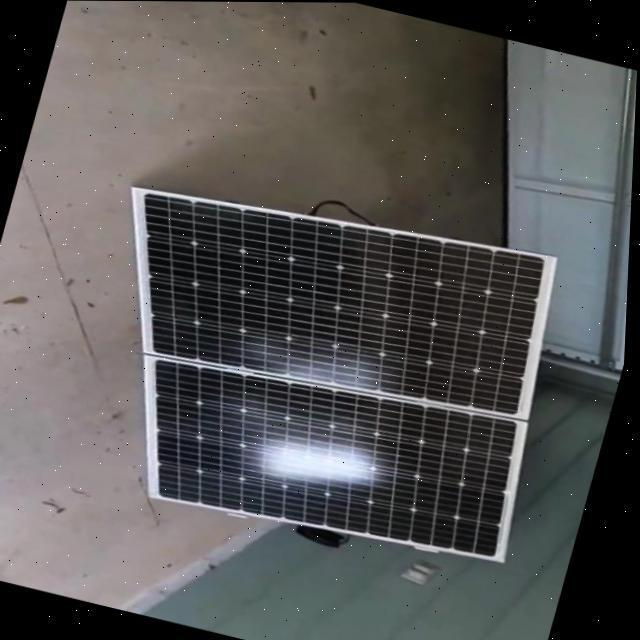Normal Solar Panel: (52, 160, 588, 578)
